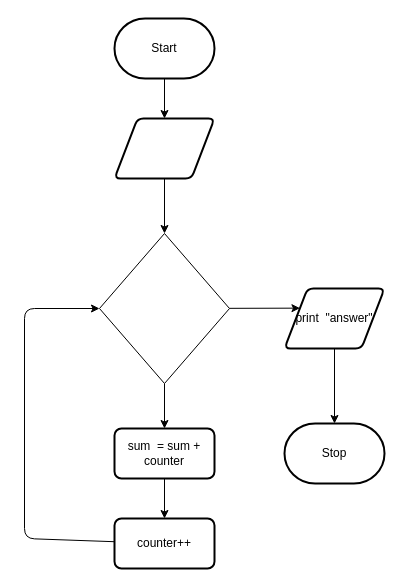
This 403x586 diagram has some shape labels left out. The shapes that lost their labels are listed below. From the top down, each one's centre as x and y in pixels, then its label:
[164,148]: user inputs number
[164,308]: while counter <= number
